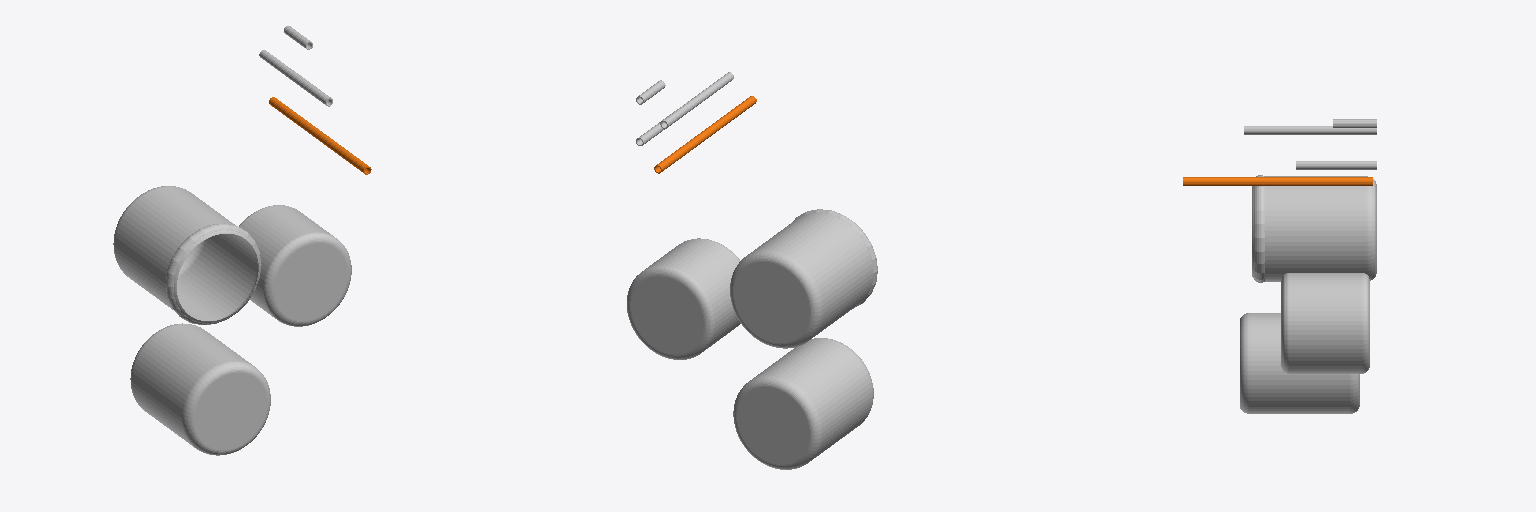
The model's file is tinker(2).obj.
3 views of the same model, side by side, from view 1: azimuth 30°, elevation 25°; view 2: azimuth 150°, elevation 25°; view 3: azimuth 270°, elevation 25° (orthographic).
Parts seen in each view (by area): view 1: obj_0; view 2: obj_0; view 3: obj_0.
Part boxes in pixels (x1,y1,x2,y2): obj_0: (113, 26, 371, 455); obj_0: (627, 72, 877, 469); obj_0: (1183, 119, 1376, 413).
Size of the model in its own units: 204 by 345 by 172.